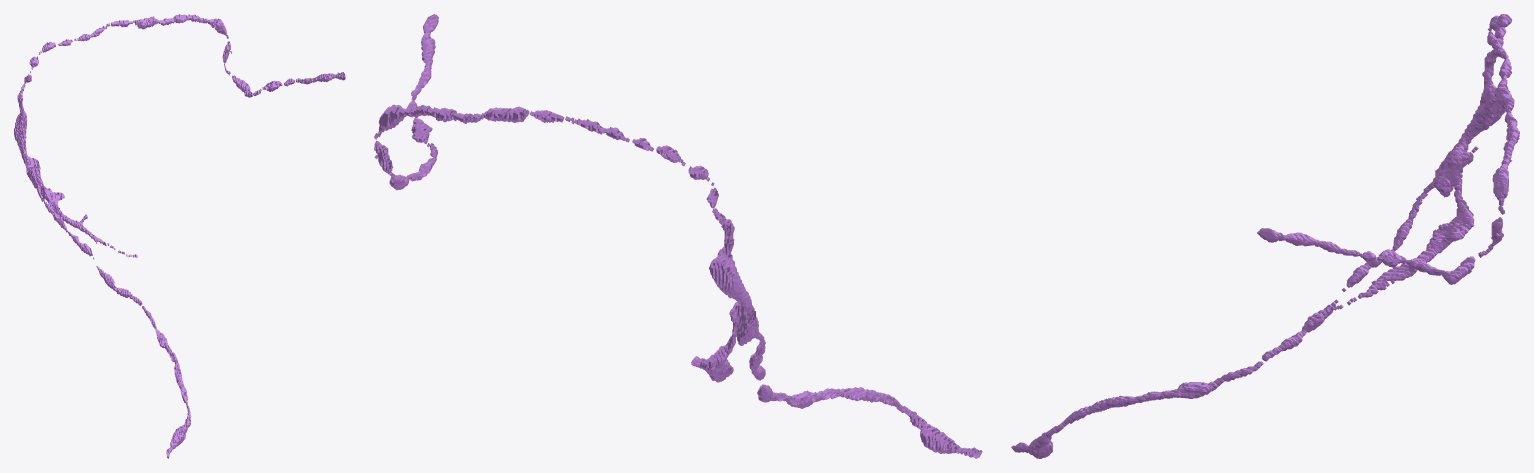
The model's file is SVV_SIBDL.gltf.
The picture shows the model from 3 angles, left to right: view 1: azimuth 30°, elevation 25°; view 2: azimuth 150°, elevation 25°; view 3: azimuth 270°, elevation 25°; orthographic projection. The views are drawn at different scales.
Parts seen in each view (by area): view 1: SIBDL; view 2: SIBDL; view 3: SIBDL.
Part boxes in pixels (<box>): SIBDL: <box>14,14,345,458</box>; SIBDL: <box>374,14,982,458</box>; SIBDL: <box>1011,14,1519,458</box>.
Size of the model in its own units: 131820 by 144451 by 141488.
